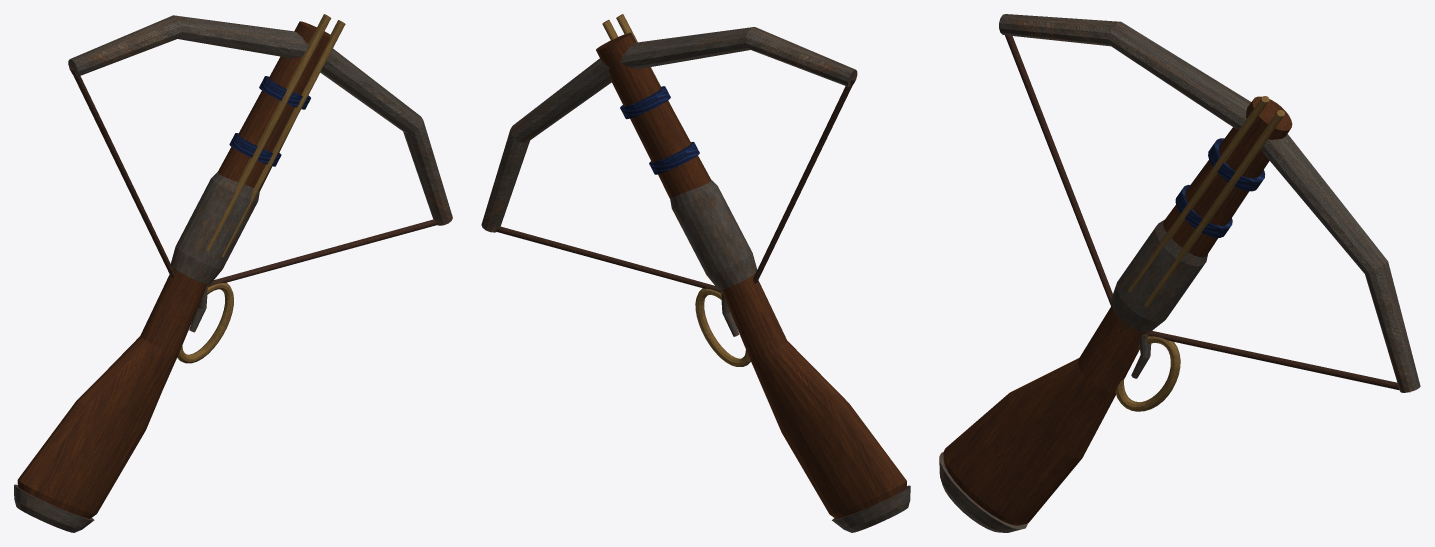
The model's file is crossbow.obj.
The picture shows the model from 3 angles, left to right: view 1: azimuth 30°, elevation 25°; view 2: azimuth 150°, elevation 25°; view 3: azimuth 330°, elevation 25°; orthographic projection. The views are drawn at different scales.
Visible parts, largest first — view 1: stock, limbs, receiver, string, rail0, rail1, butt_plate, trigger_guard, blue_binding2, blue_binding1; view 2: stock, limbs, receiver, string, butt_plate, trigger_guard, blue_binding2, blue_binding1; view 3: stock, limbs, receiver, string, rail1, rail0, butt_plate, trigger_guard, blue_binding2, blue_binding1.
Boxes of the visible parts, x1,y1,x2,y2 form: stock: (17, 21, 330, 518); limbs: (68, 15, 452, 225); receiver: (171, 172, 259, 284); string: (70, 67, 437, 287); rail0: (206, 14, 331, 251); rail1: (221, 20, 345, 257); butt_plate: (14, 484, 94, 532); trigger_guard: (177, 282, 233, 363); blue_binding2: (259, 76, 310, 109); blue_binding1: (229, 133, 281, 166); stock: (596, 32, 906, 518); limbs: (481, 27, 857, 232); receiver: (670, 179, 757, 290); string: (496, 77, 855, 292); butt_plate: (832, 485, 910, 532); trigger_guard: (695, 288, 750, 366); blue_binding2: (620, 86, 670, 119); blue_binding1: (649, 142, 699, 174); stock: (943, 96, 1292, 525); limbs: (999, 14, 1420, 392); receiver: (1110, 220, 1207, 332); string: (1005, 35, 1410, 392); rail1: (1144, 110, 1284, 307); rail0: (1128, 96, 1269, 292); butt_plate: (939, 452, 1027, 532); trigger_guard: (1115, 336, 1180, 411); blue_binding2: (1208, 138, 1265, 191); blue_binding1: (1175, 184, 1232, 237).
Bounding box in the file's own units: 98.8 × 106 × 9.65.
5 materials, 5 textured.
